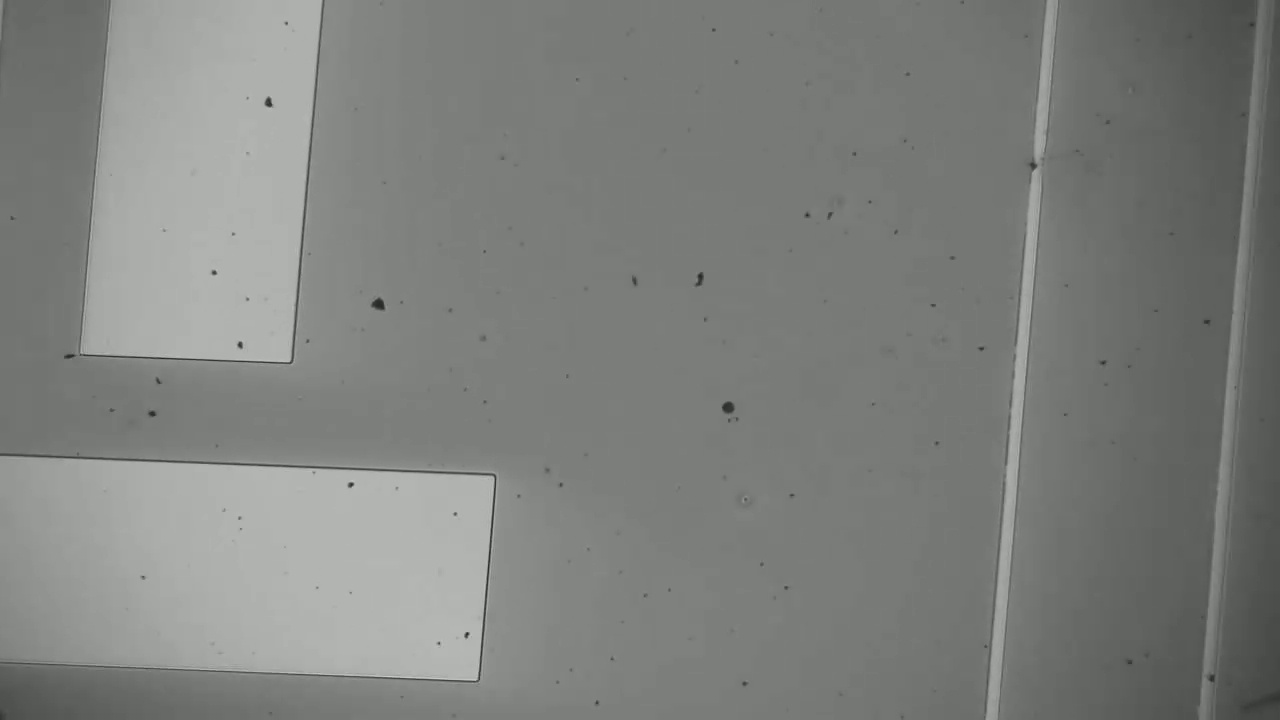stains_enbedded: (1017, 156, 1049, 180)
